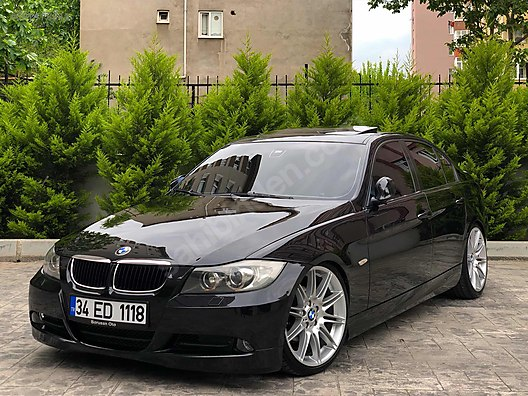bmw: (27, 124, 494, 378)
